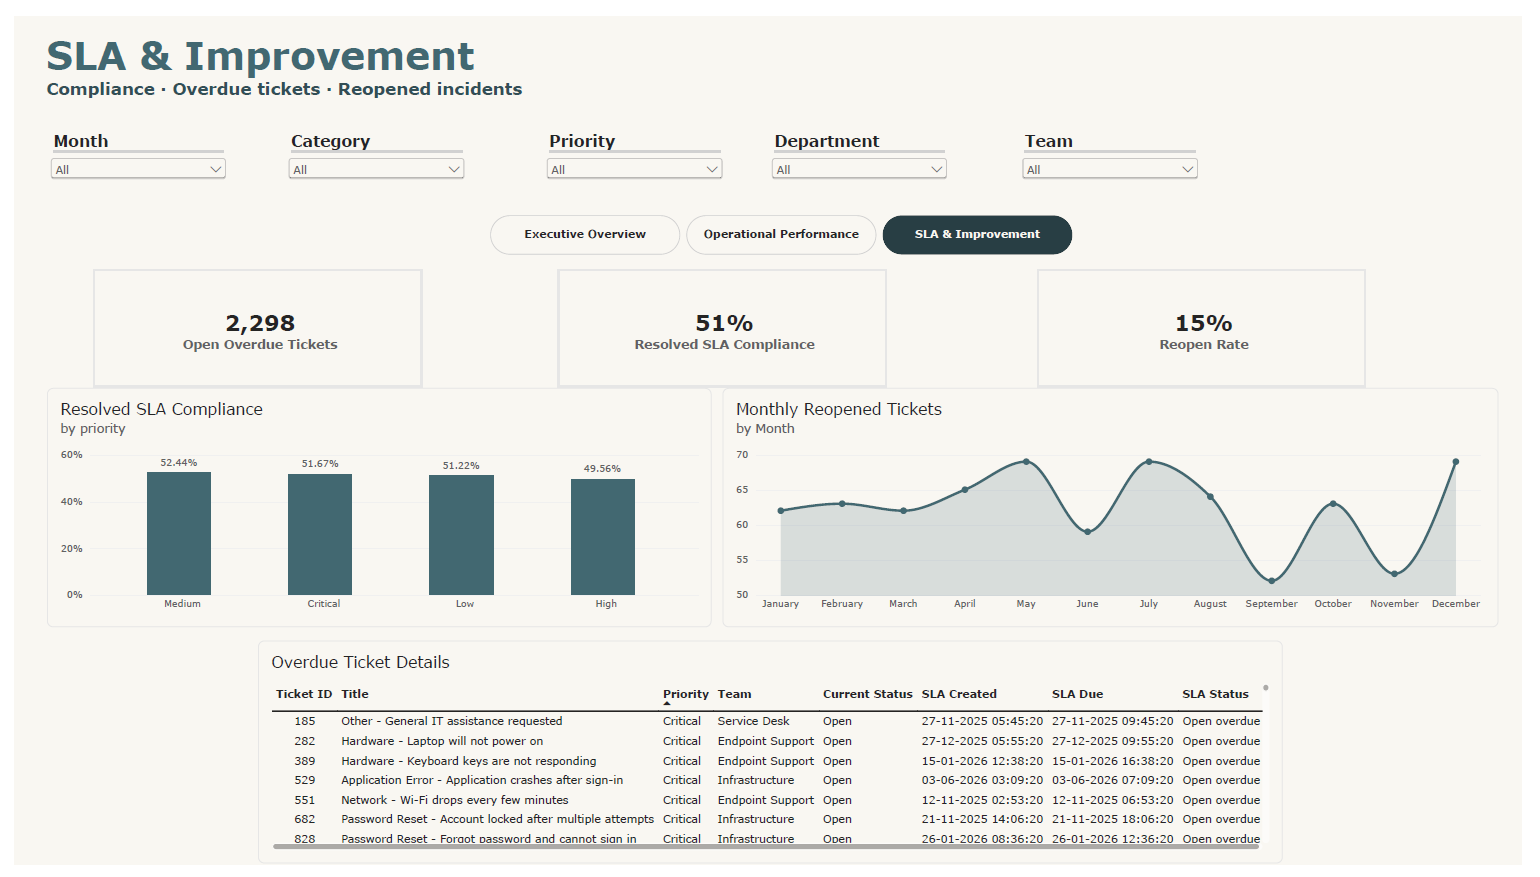

The dashboard page shown, as its layout file describes it:
{"tool":"powerbi","page":{"name":"SLA & Improvement","canvas":[1920,1080],"ordinal":2},"visuals":[{"type":"textbox","box":[39.7,19.8,1879.4,158.7],"z":0},{"type":"clusteredColumnChart","fields":{"Category":["service_desk vw_ticket_kpis.priority"],"Y":["service_desk vw_ticket_kpis.Resolved SLA Compliance %"]},"box":[40.6,472.6,847.4,305.5],"z":6000},{"type":"lineChart","title":"Monthly Reopened Tickets","fields":{"Category":["service_desk vw_ticket_kpis.created_at.Variation.Date Hierarchy.Month"],"Y":["service_desk vw_ticket_kpis.Reopened Tickets"]},"box":[902.3,472.6,988.3,305.5],"z":7000},{"type":"tableEx","title":"Overdue Ticket Details","fields":{"Values":["service_desk vw_ticket_kpis.ticket_id","service_desk vw_ticket_kpis.title","service_desk vw_ticket_kpis.priority","service_desk vw_ticket_kpis.assigned_team","service_desk vw_ticket_kpis.status","service_desk vw_ticket_kpis.created_at","service_desk vw_ticket_kpis.sla_due_at","service_desk vw_ticket_kpis.sla_status"]},"box":[310.3,794.9,1305.7,284.1],"z":8000},{"type":"cardVisual","fields":{"Data":["service_desk vw_ticket_kpis.Open Overdue Tickets"]},"box":[100.3,322.3,419.9,150.3],"z":8001},{"type":"cardVisual","fields":{"Data":["service_desk vw_ticket_kpis.Resolved SLA Compliance %"]},"box":[692.3,322.3,419.9,150.3],"z":8002},{"type":"cardVisual","fields":{"Data":["service_desk vw_ticket_kpis.Reopen Rate %"]},"box":[1303.3,322.3,419.9,150.3],"z":8003},{"type":"slicer","fields":{"Values":["service_desk vw_ticket_kpis.created_at.Variation.Date Hierarchy.Month"]},"box":[40.6,145.6,233.8,107.4],"z":8004},{"type":"slicer","fields":{"Values":["service_desk vw_ticket_kpis.category"]},"box":[343.7,145.6,233.8,107.4],"z":8005},{"type":"slicer","fields":{"Values":["service_desk vw_ticket_kpis.priority"]},"box":[673.2,145.6,233.8,107.4],"z":8006},{"type":"slicer","fields":{"Values":["service_desk vw_ticket_kpis.department"]},"box":[959.6,145.6,233.8,107.4],"z":8007},{"type":"slicer","fields":{"Values":["service_desk vw_ticket_kpis.assigned_team"]},"box":[1279.5,145.6,233.8,107.4],"z":8008},{"type":"pageNavigator","box":[606.3,253,744.8,50.1],"z":8009}]}

Visuals, with their boxes in screenshot pixels (x1, y1, x2, y2), scaled from the page's 1920x1080 canvas onto the 1540x877 screenshot:
textbox: <region>32, 16, 1539, 145</region>
clusteredColumnChart - service_desk vw_ticket_kpis.priority x service_desk vw_ticket_kpis.Resolved SLA Compliance %: <region>33, 384, 712, 632</region>
"Monthly Reopened Tickets" lineChart: <region>724, 384, 1516, 632</region>
"Overdue Ticket Details" tableEx: <region>249, 645, 1296, 876</region>
cardVisual - service_desk vw_ticket_kpis.Open Overdue Tickets: <region>80, 262, 417, 384</region>
cardVisual - service_desk vw_ticket_kpis.Resolved SLA Compliance %: <region>555, 262, 892, 384</region>
cardVisual - service_desk vw_ticket_kpis.Reopen Rate %: <region>1045, 262, 1382, 384</region>
slicer - service_desk vw_ticket_kpis.created_at.Variation.Date Hierarchy.Month: <region>33, 118, 220, 205</region>
slicer - service_desk vw_ticket_kpis.category: <region>276, 118, 463, 205</region>
slicer - service_desk vw_ticket_kpis.priority: <region>540, 118, 727, 205</region>
slicer - service_desk vw_ticket_kpis.department: <region>770, 118, 957, 205</region>
slicer - service_desk vw_ticket_kpis.assigned_team: <region>1026, 118, 1214, 205</region>
pageNavigator: <region>486, 205, 1084, 246</region>
